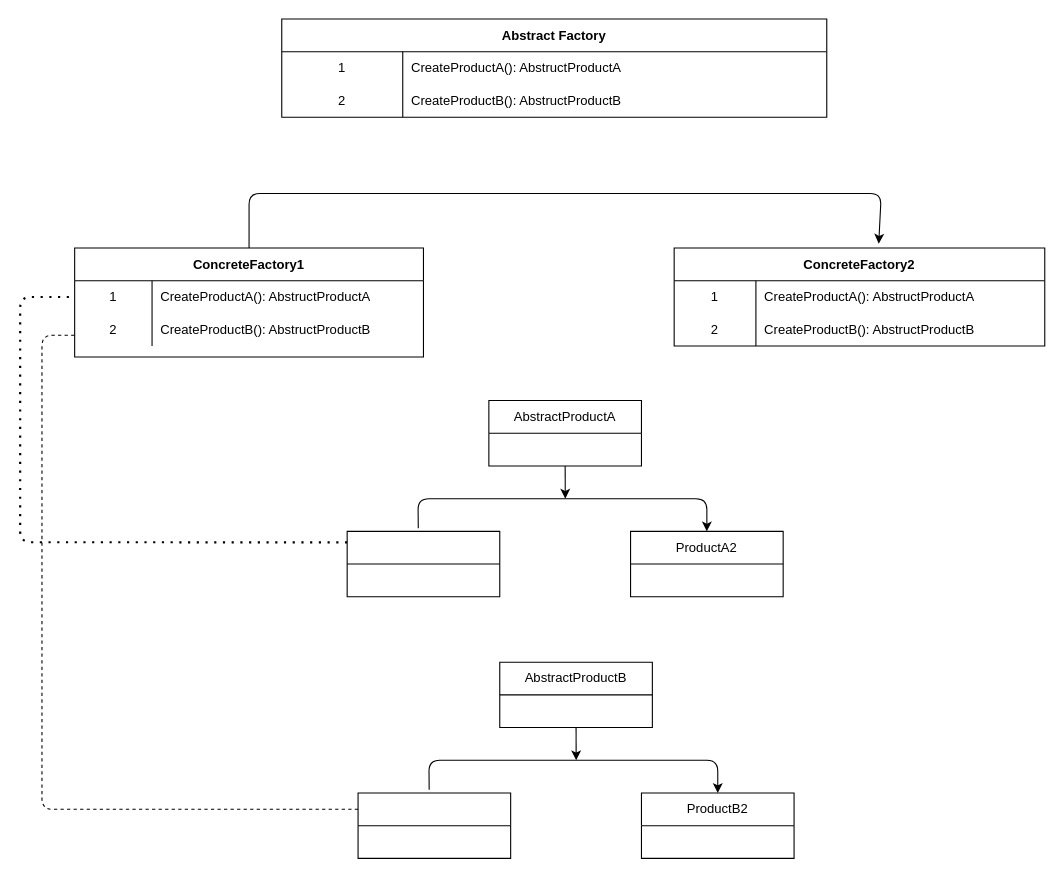
The diagram is 1064 pixels wide and 877 high, and some of its shapes have lost their labels. The shapes that lost their labels are listed below. From the top down, each one's centre as x and y in pixels, then its label:
(423,563): ProductA1
(434,825): ProductB1
